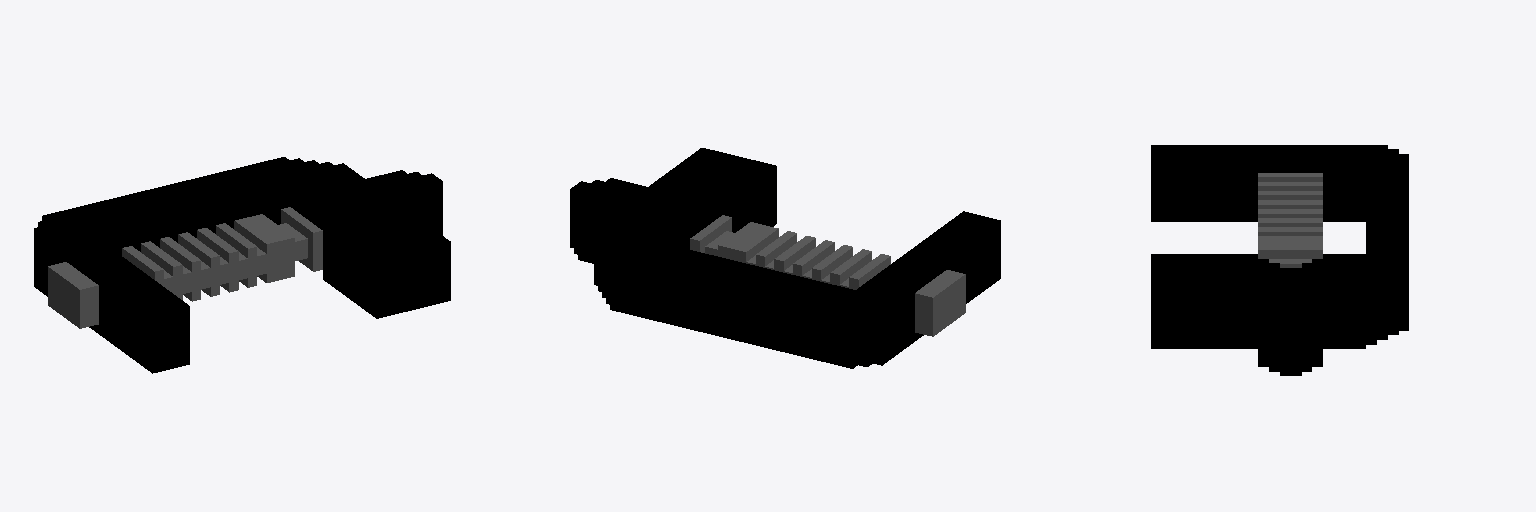
The picture shows the model from 3 angles: view 1: azimuth 30°, elevation 25°; view 2: azimuth 150°, elevation 25°; view 3: azimuth 270°, elevation 25°; orthographic projection.
Visible parts, largest first — view 1: object 1; view 2: object 1; view 3: object 1.
Boxes of the visible parts, box(x1,y1,x2,y2) form: object 1: box(34, 157, 450, 373); object 1: box(570, 148, 1000, 368); object 1: box(1151, 145, 1408, 375).
Bounding box in the file's own units: 4 × 0.6 × 2.4.
Materials: 1 (1 with a texture image).